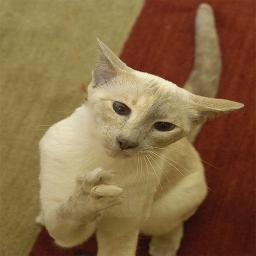catnose: (114, 136, 140, 150)
